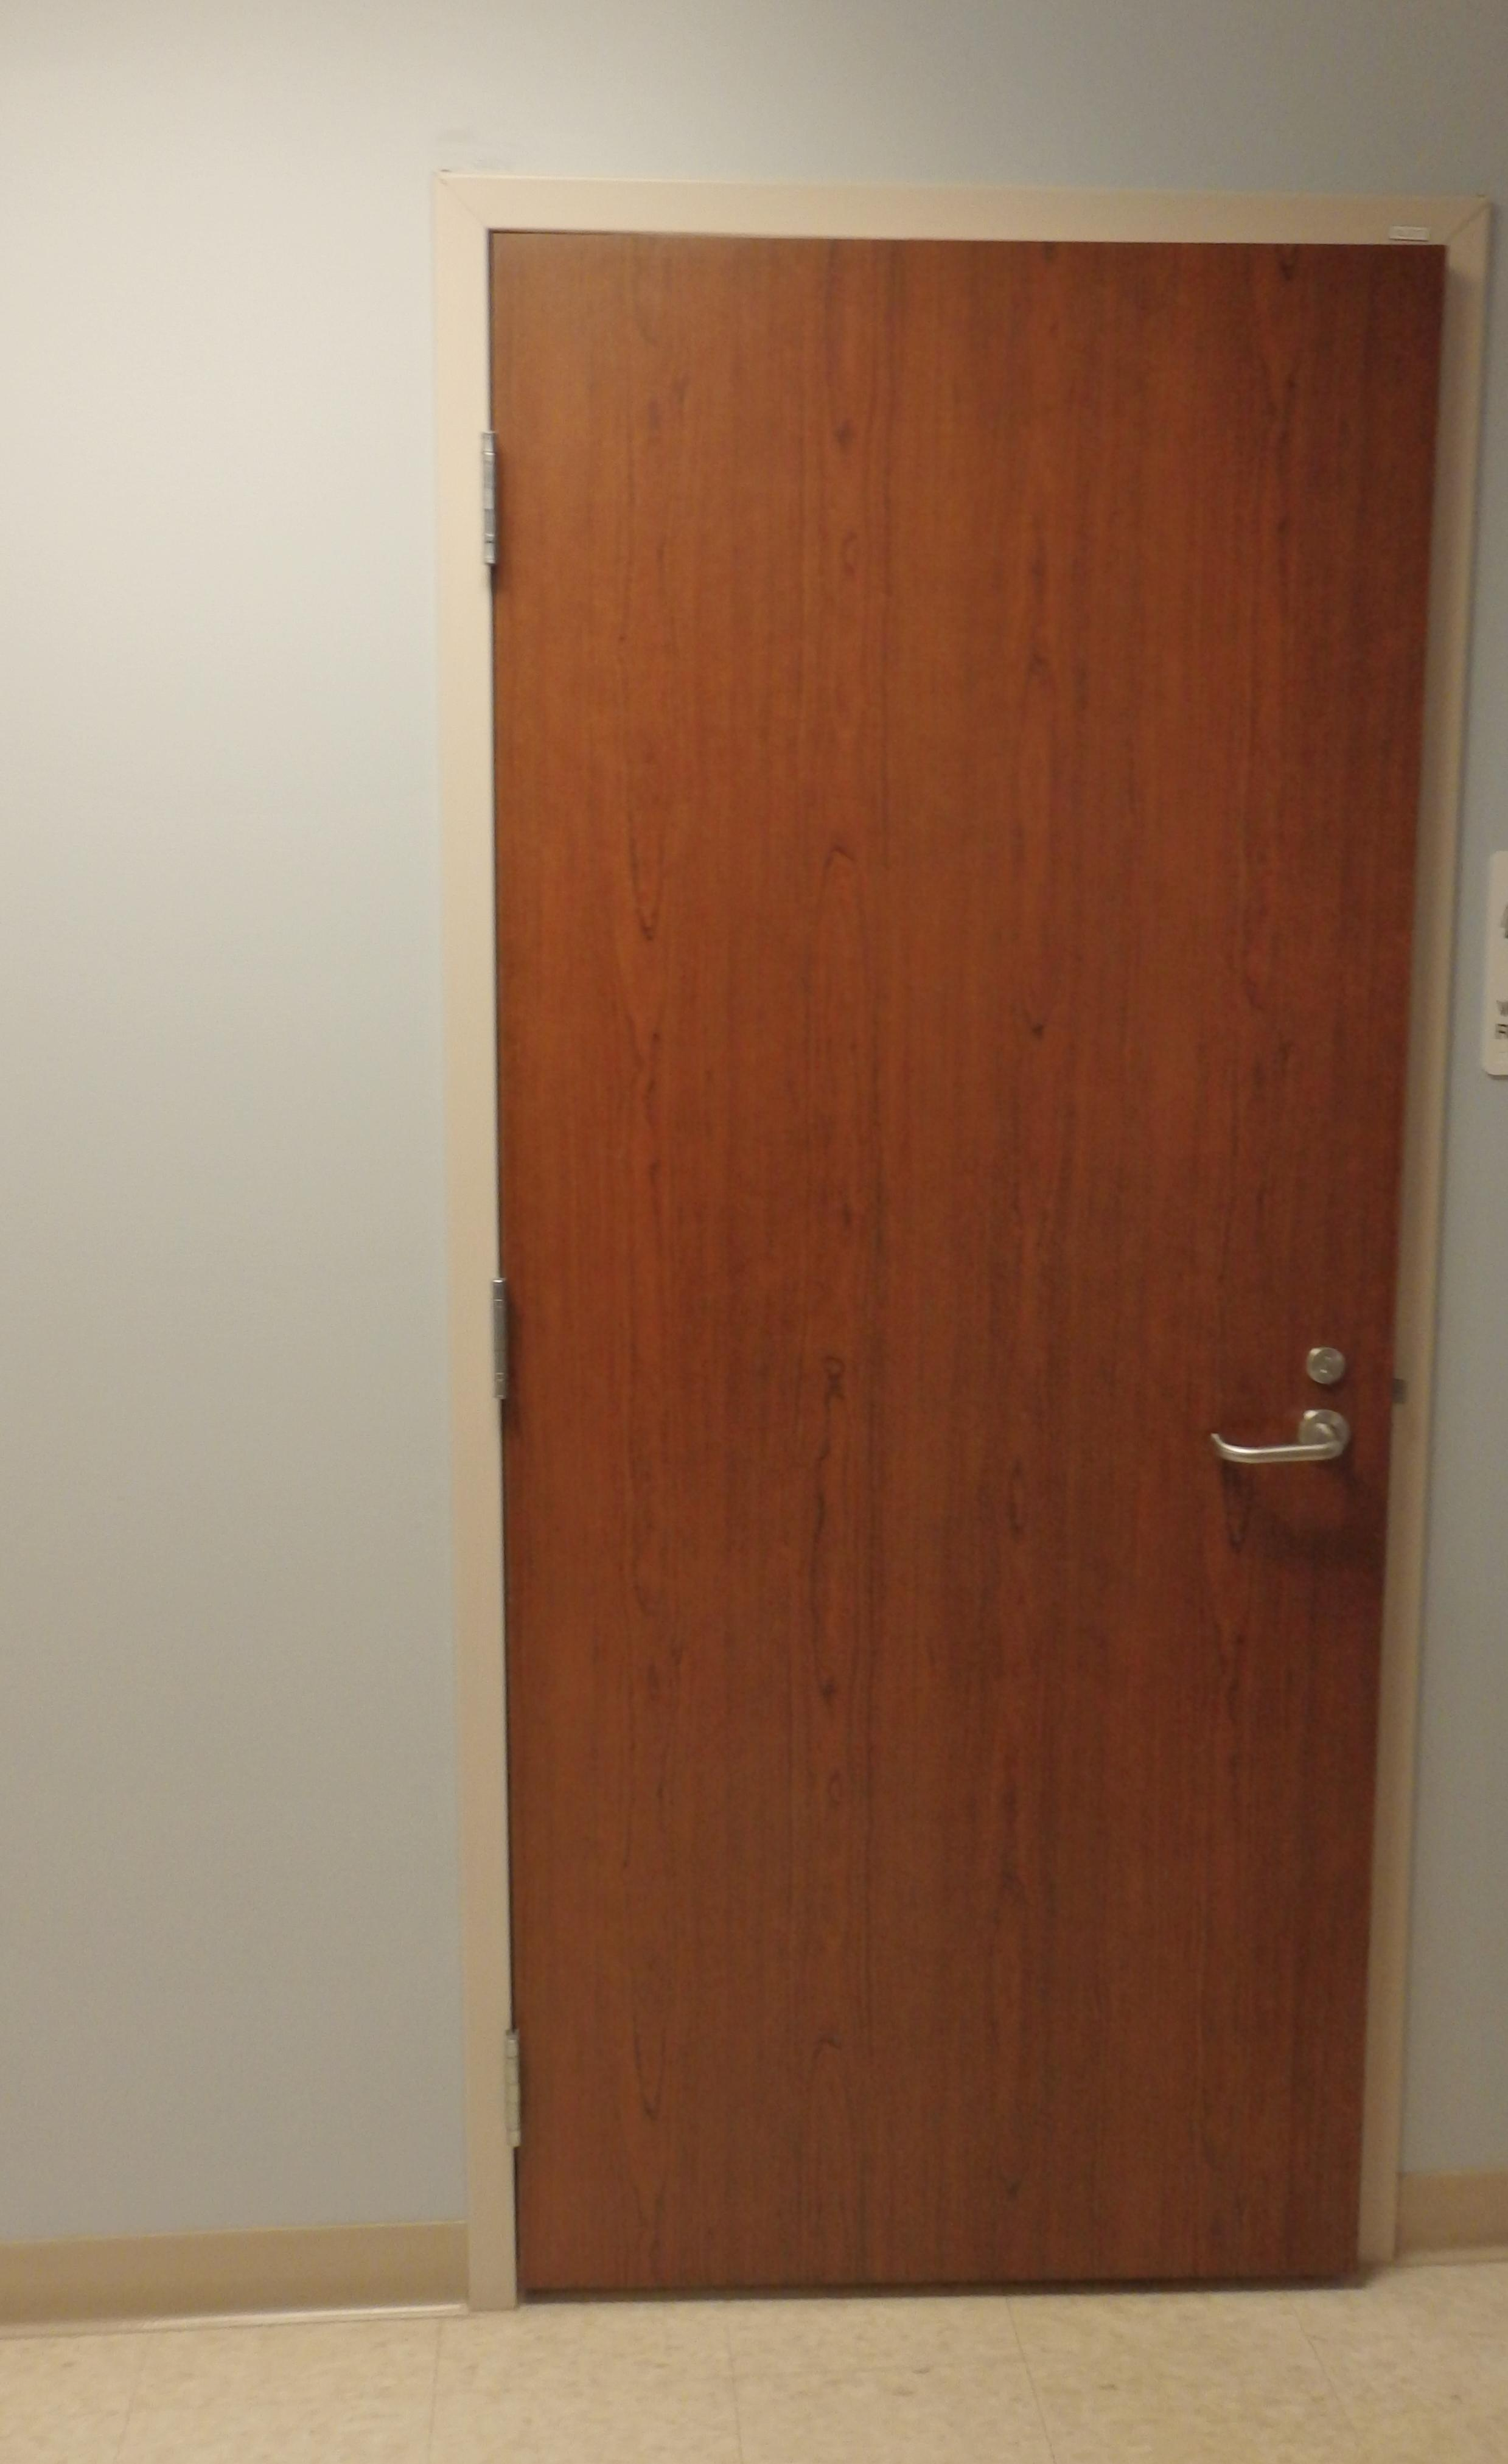door: (459, 220, 1453, 2299)
